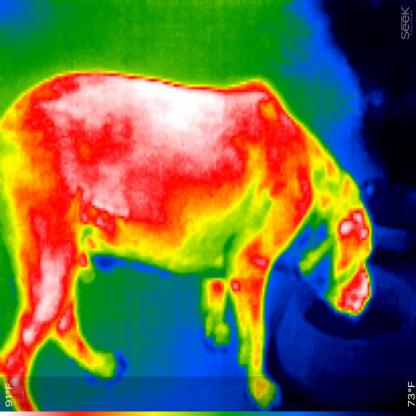dog: (1, 64, 376, 410)
